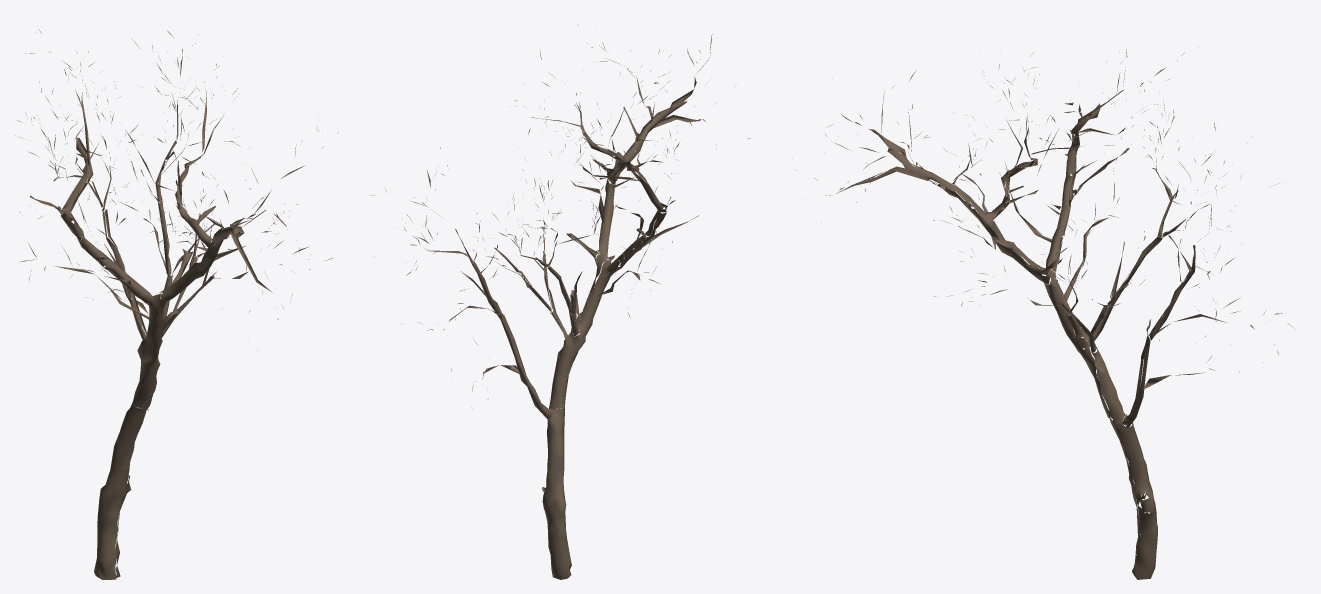
The model's file is tree-wood.glb.
3 renders of one model, left to right at view 1: azimuth 30°, elevation 25°; view 2: azimuth 150°, elevation 25°; view 3: azimuth 270°, elevation 25°, orthographic. The views are drawn at different scales.
Visible parts, largest first — view 1: tree_small_02_LOD0; view 2: tree_small_02_LOD0; view 3: tree_small_02_LOD0.
Boxes of the visible parts, bbox=[...] form: tree_small_02_LOD0: bbox=[15, 30, 338, 579]; tree_small_02_LOD0: bbox=[370, 34, 749, 579]; tree_small_02_LOD0: bbox=[792, 49, 1292, 579].
Bounding box in the file's own units: 2.23 × 4.39 × 3.93.
